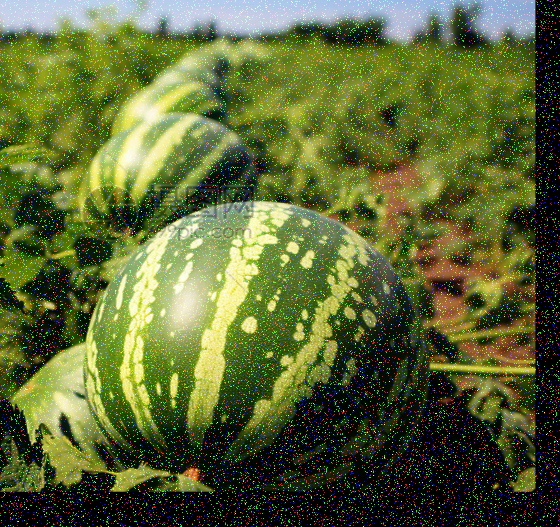watermelon: (80, 198, 421, 491), (82, 110, 254, 242)
